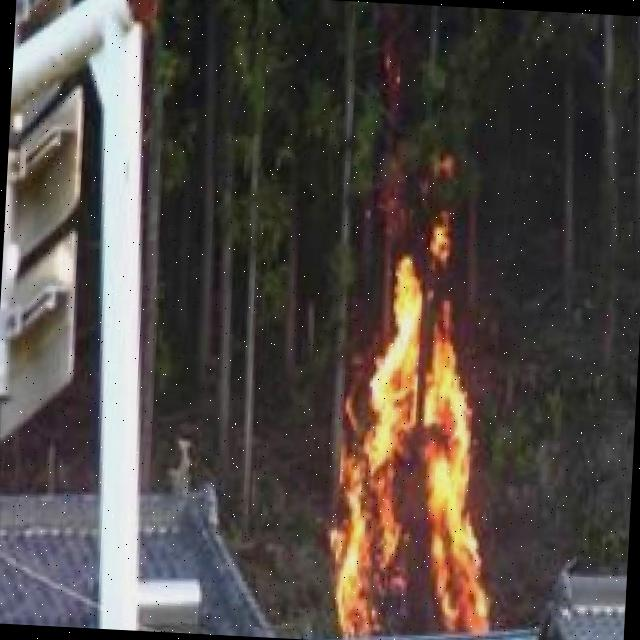fire: (311, 186, 521, 629)
